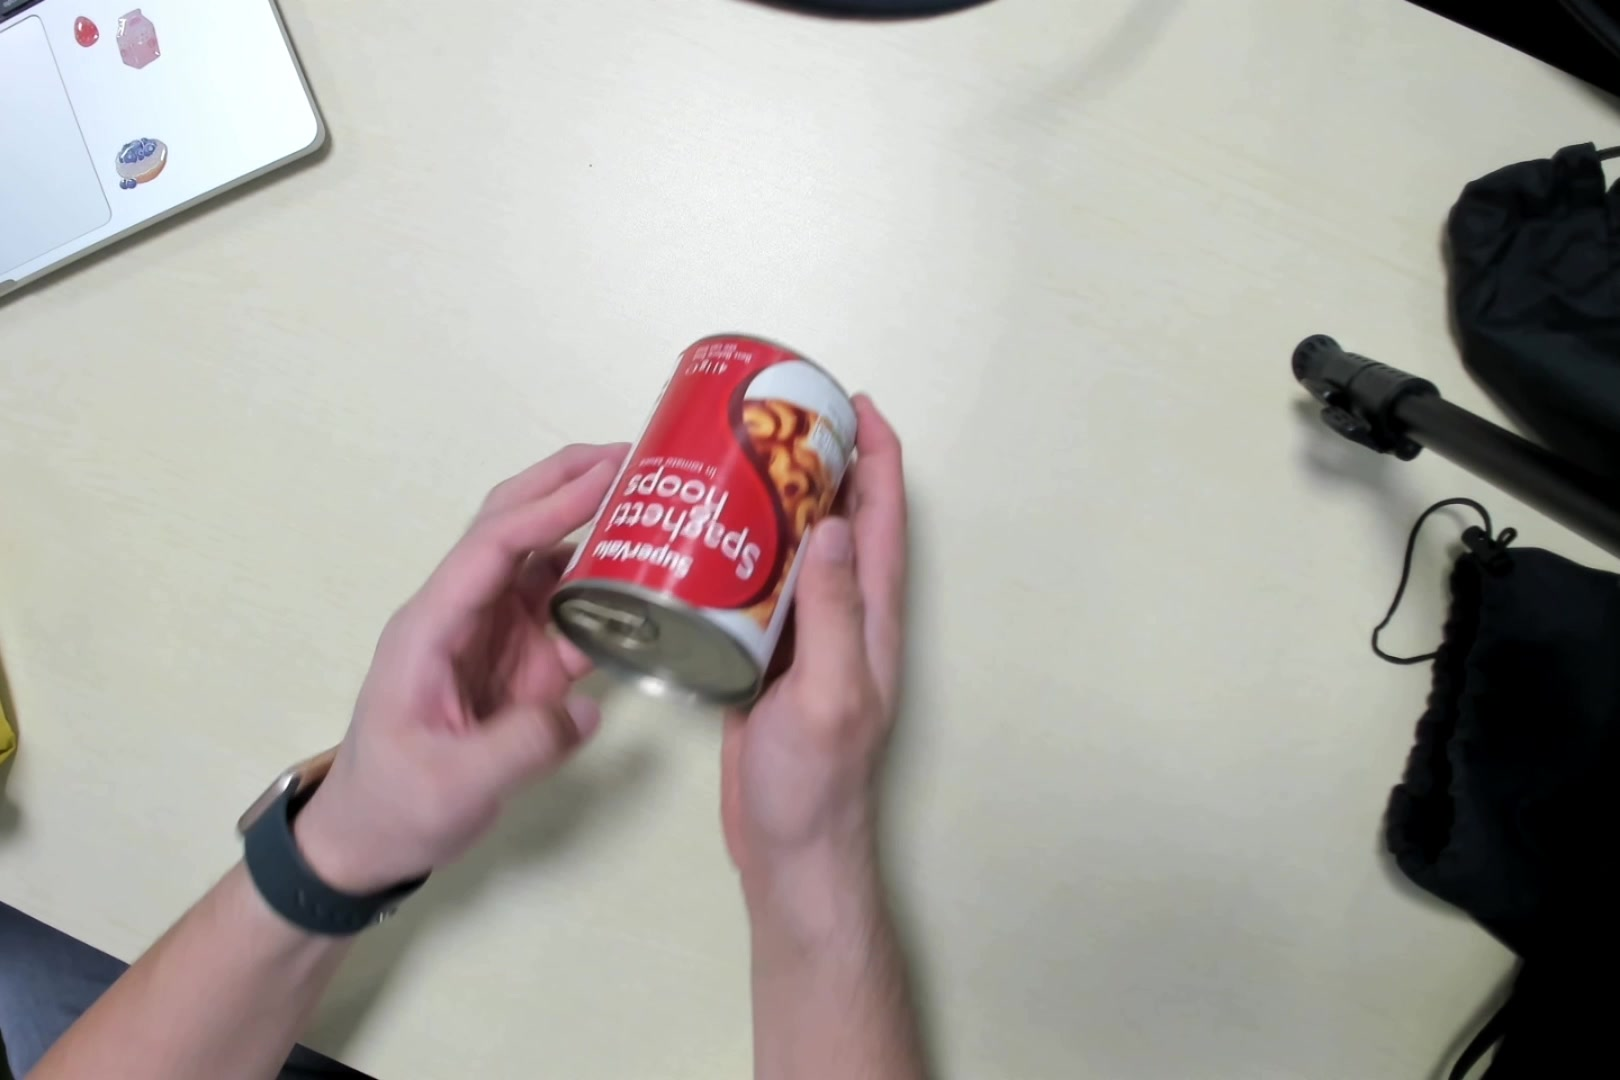InstantMeals_400-499g_NonHalal_NonHealthy: (554, 328, 859, 692)
